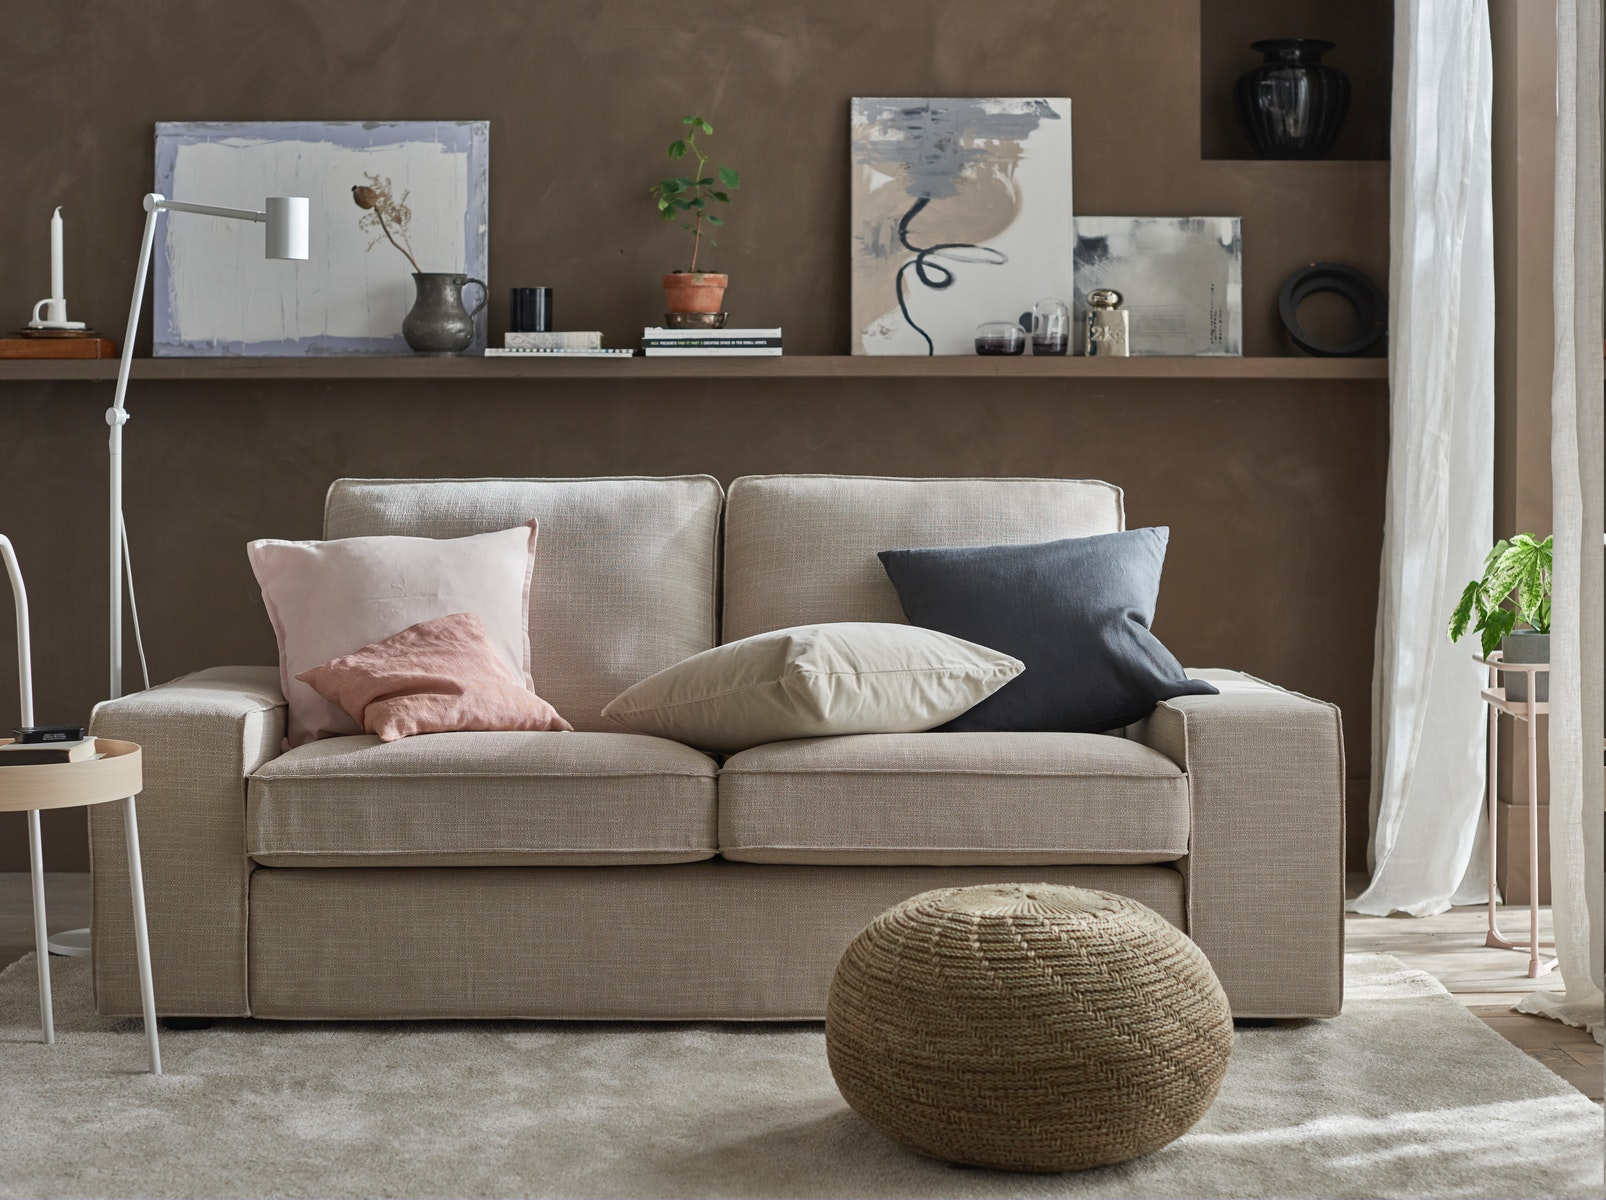lampu: (61, 166, 328, 538)
meja: (1, 740, 166, 1083)
sova: (96, 471, 1369, 1029)
tanaman: (645, 116, 753, 323), (1448, 547, 1564, 689)
